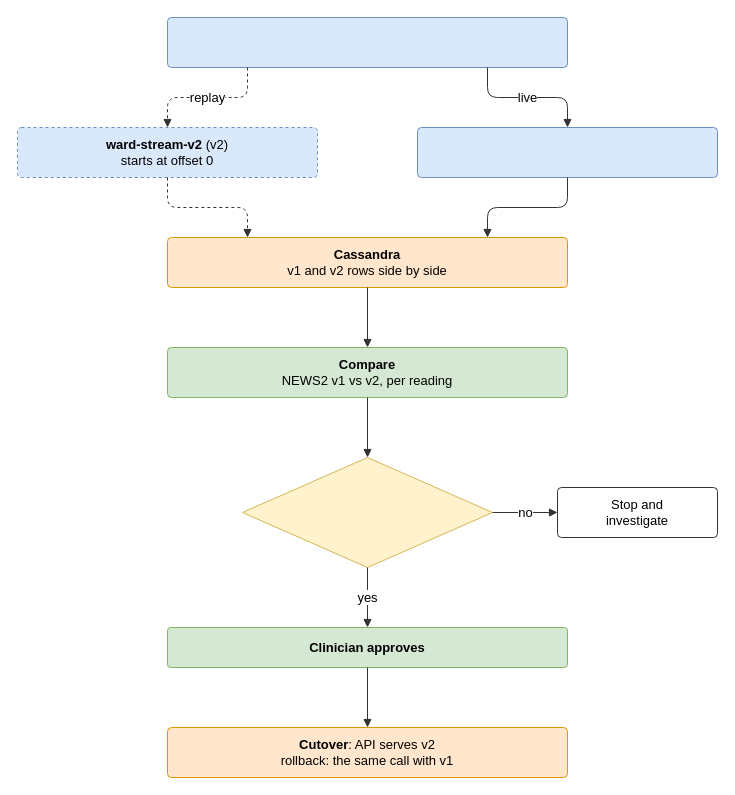
This 735x795 diagram has some shape labels left out. Each missing label, with the box of its shape:
Only COPD patients changed, as expected?: (242, 456, 492, 568)
vitals.readings.v1 all readings, 30 sim days: (166, 16, 568, 68)
ward-stream (v1) live: (416, 126, 718, 178)
